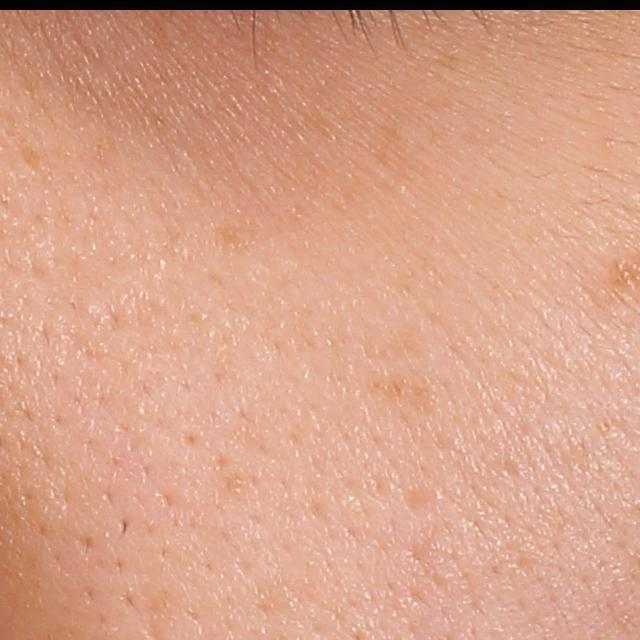atrophic_scar: (400, 482, 434, 519)
melasma: (369, 371, 436, 419), (212, 218, 266, 261)
